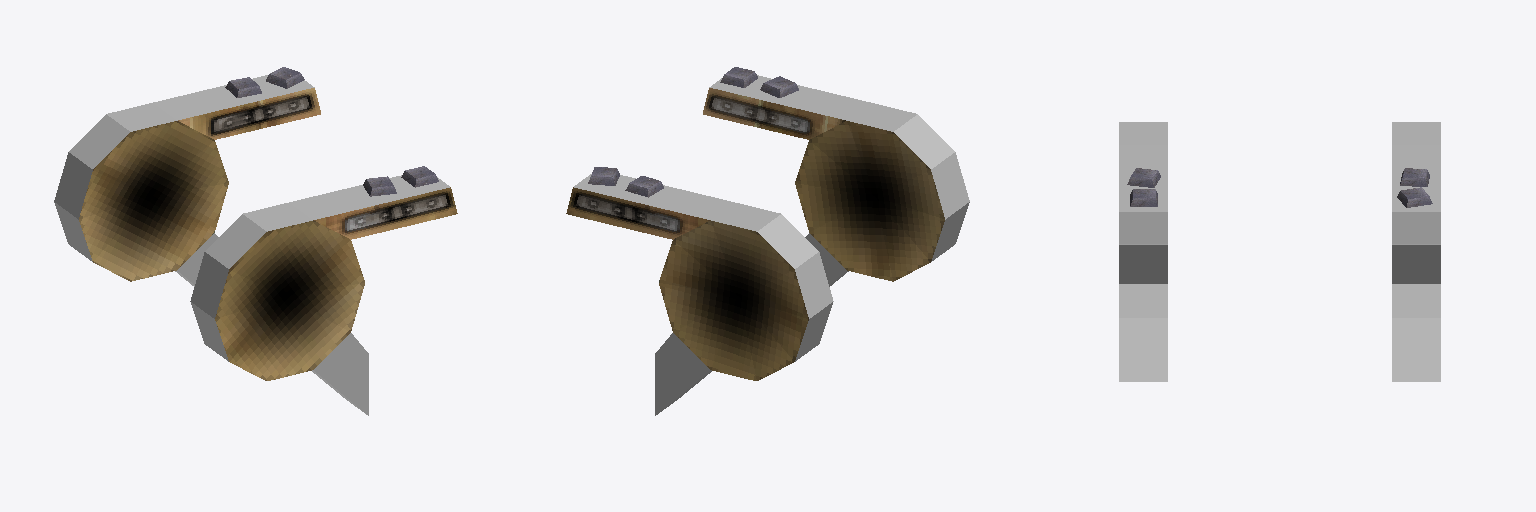
3 views of the same model, side by side, from view 1: azimuth 30°, elevation 25°; view 2: azimuth 150°, elevation 25°; view 3: azimuth 270°, elevation 25° (orthographic).
Parts seen in each view (by area): view 1: P_Modul_37_Hinge; view 2: P_Modul_37_Hinge; view 3: P_Modul_37_Hinge.
Part boxes in pixels (bbox=[...]): P_Modul_37_Hinge: bbox=[54, 67, 457, 415]; P_Modul_37_Hinge: bbox=[566, 67, 969, 415]; P_Modul_37_Hinge: bbox=[1119, 122, 1440, 381].
Size of the model in its own units: 3.49 by 3.01 by 4.
Materials: 3 (2 with a texture image).